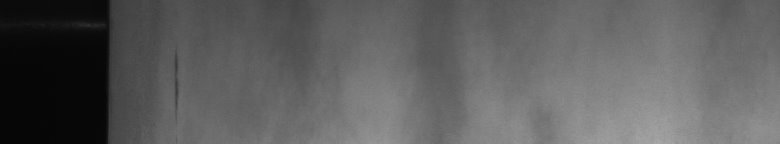hd: (168, 52, 183, 120)
